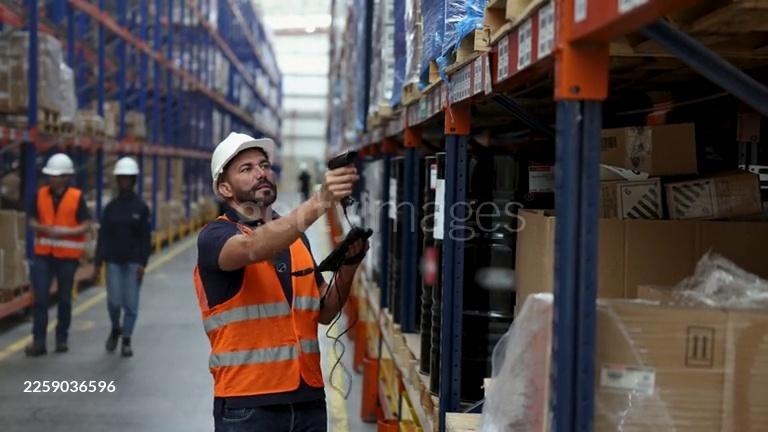helmet: (210, 132, 277, 192), (41, 153, 75, 176), (111, 156, 140, 176)
person: (193, 132, 377, 428), (25, 152, 93, 355), (95, 155, 157, 359)
